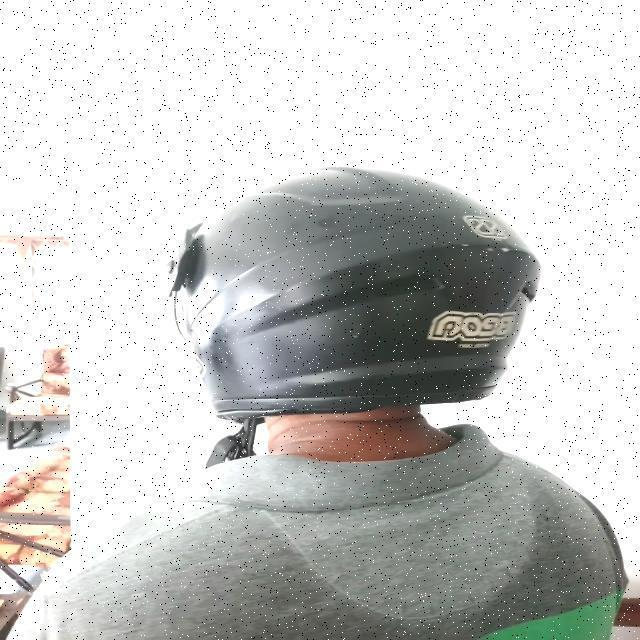helmet: (170, 166, 539, 468)
